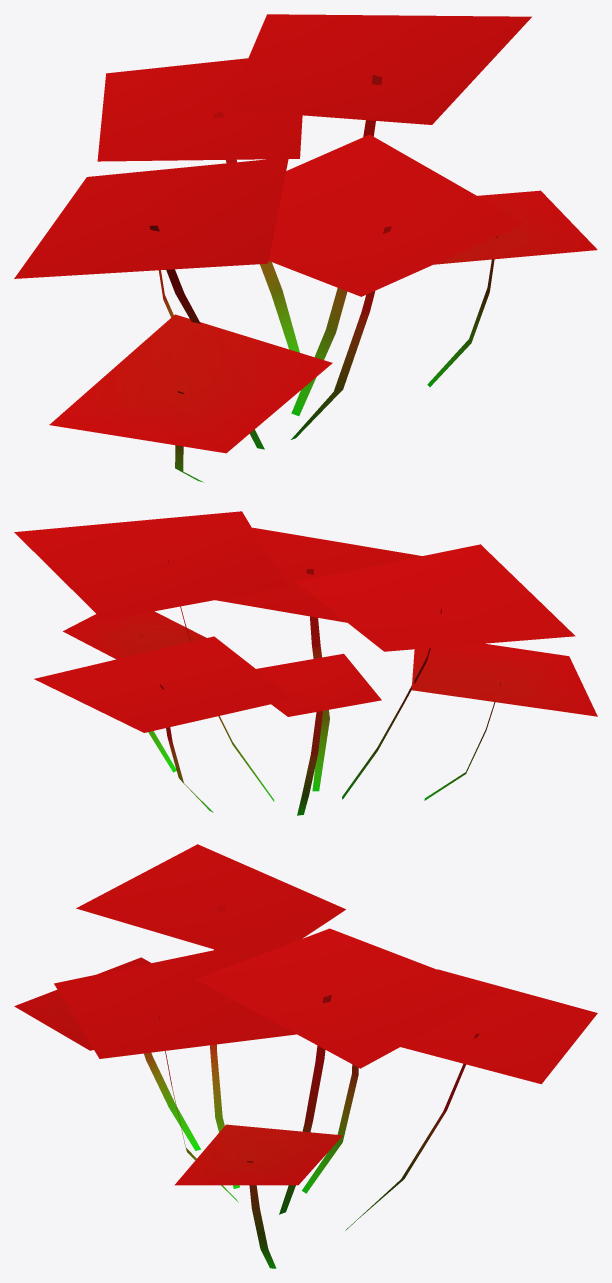
The model's file is Wood Sorrel_LOD2_Var11_wcwmchzja.fbx.
3 views of the same model, one above another, from view 1: azimuth 30°, elevation 25°; view 2: azimuth 150°, elevation 25°; view 3: azimuth 270°, elevation 25° (orthographic). The views are drawn at different scales.
Parts seen in each view (by area): view 1: _jovs_Var11_LOD2; view 2: _jovs_Var11_LOD2; view 3: _jovs_Var11_LOD2.
Boxes of the visible parts, box(x1,y1,x2,y2) form: _jovs_Var11_LOD2: box(14, 14, 597, 482); _jovs_Var11_LOD2: box(14, 511, 597, 815); _jovs_Var11_LOD2: box(14, 844, 597, 1268).
Size of the model in its own units: 11.17 by 5.34 by 10.32.
